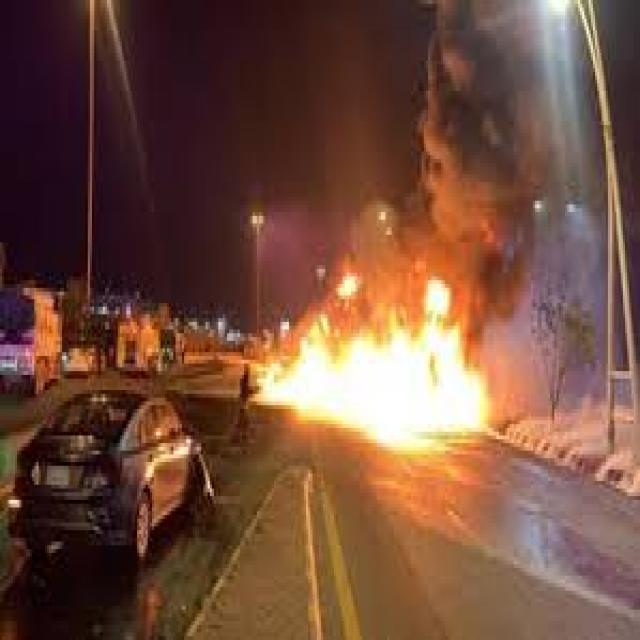fire: (253, 273, 492, 447)
smoke: (300, 4, 560, 329)
